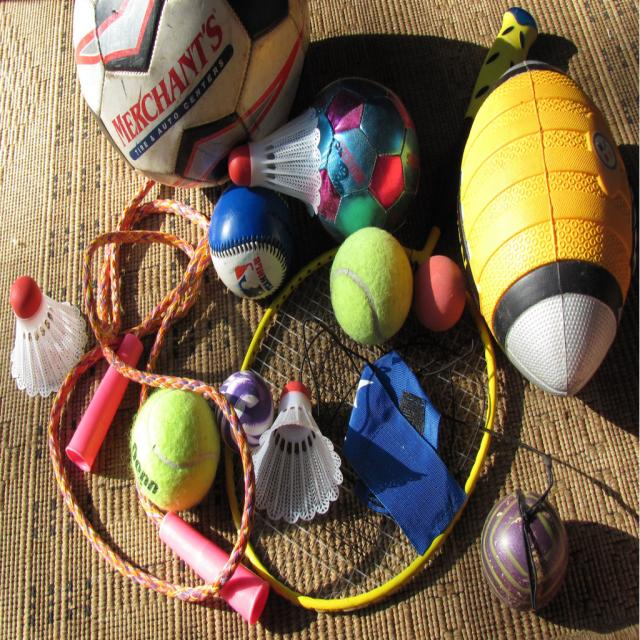Tennis ball: (130, 383, 224, 513), (330, 225, 414, 345)
